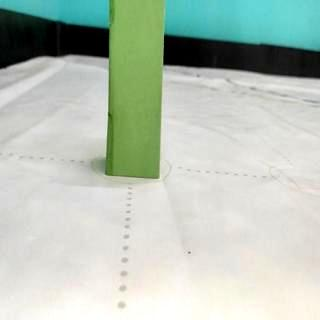greenbox: (106, 0, 165, 179)
